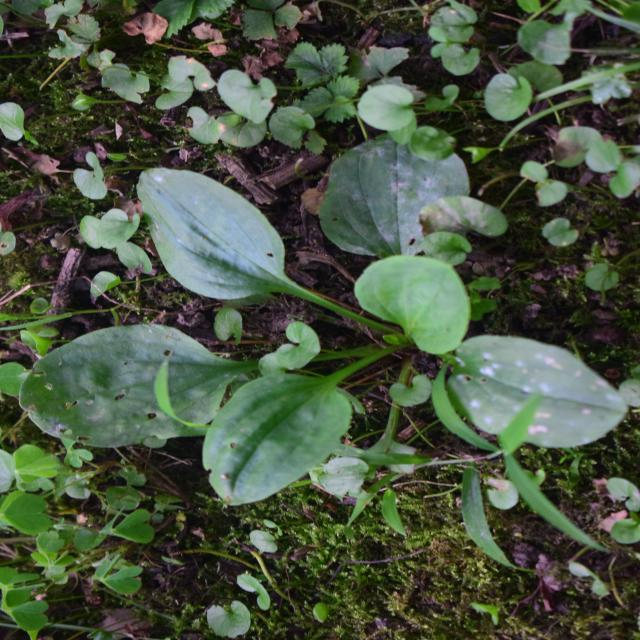plantain: (149, 45, 482, 578)
